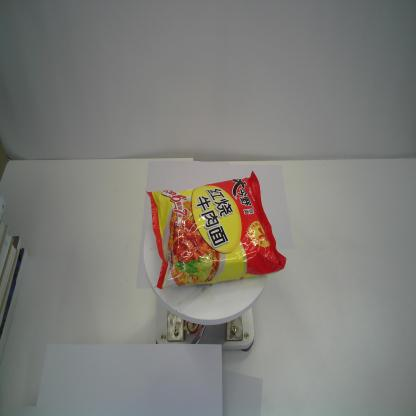Instant Noodles: (145, 169, 287, 291)
